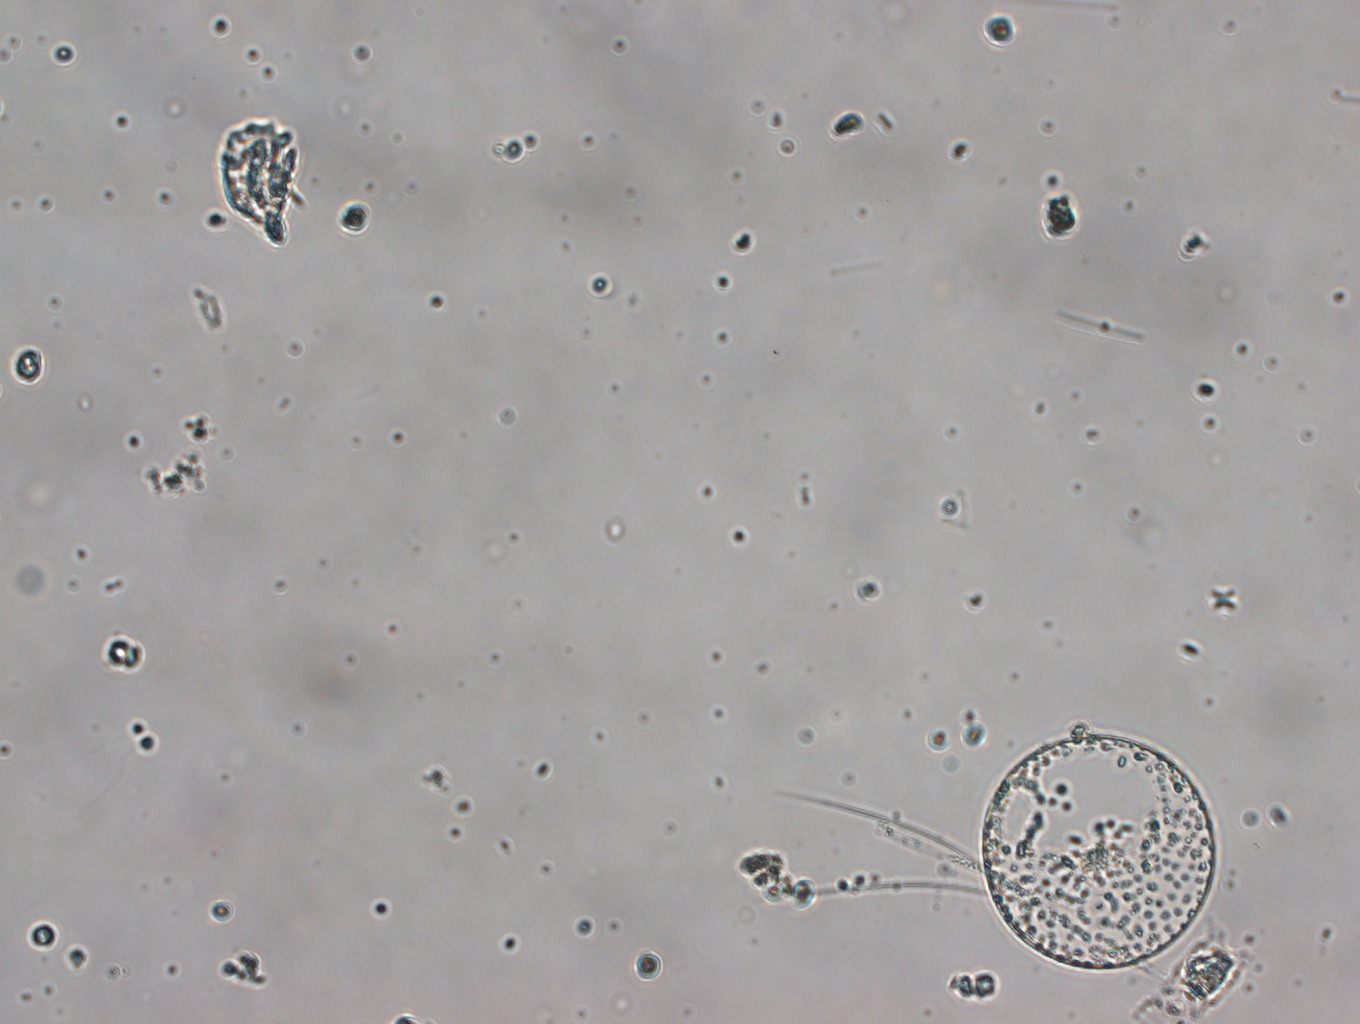coscinodiscus: (979, 735, 1219, 973)
